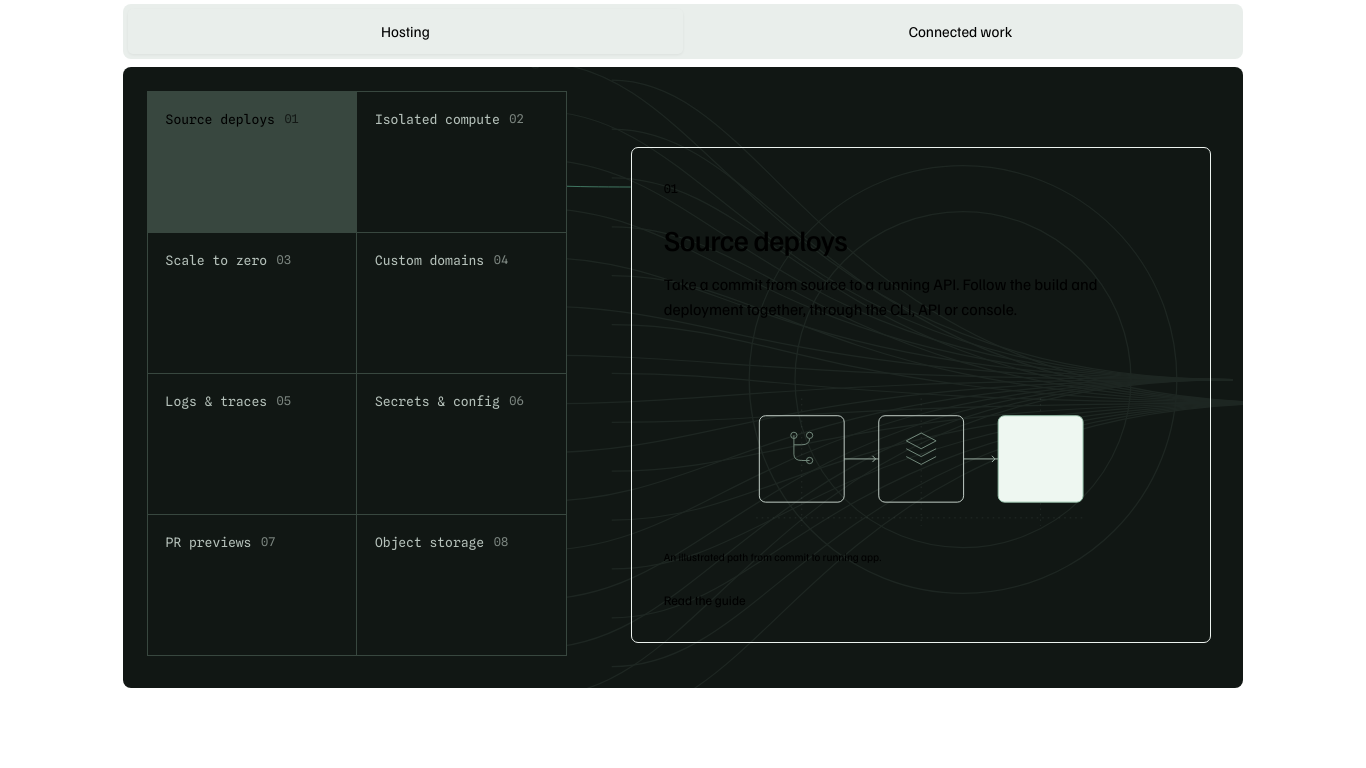
Test: feature explorer › explains Object storage availability, labelling only what is not in beta, and links to its guide when one is published
This screenshot has width=1366, height=768.
(page scrolled)
Click the tab "Object storage 08": x=461, y=585 [357, 515, 566, 655]
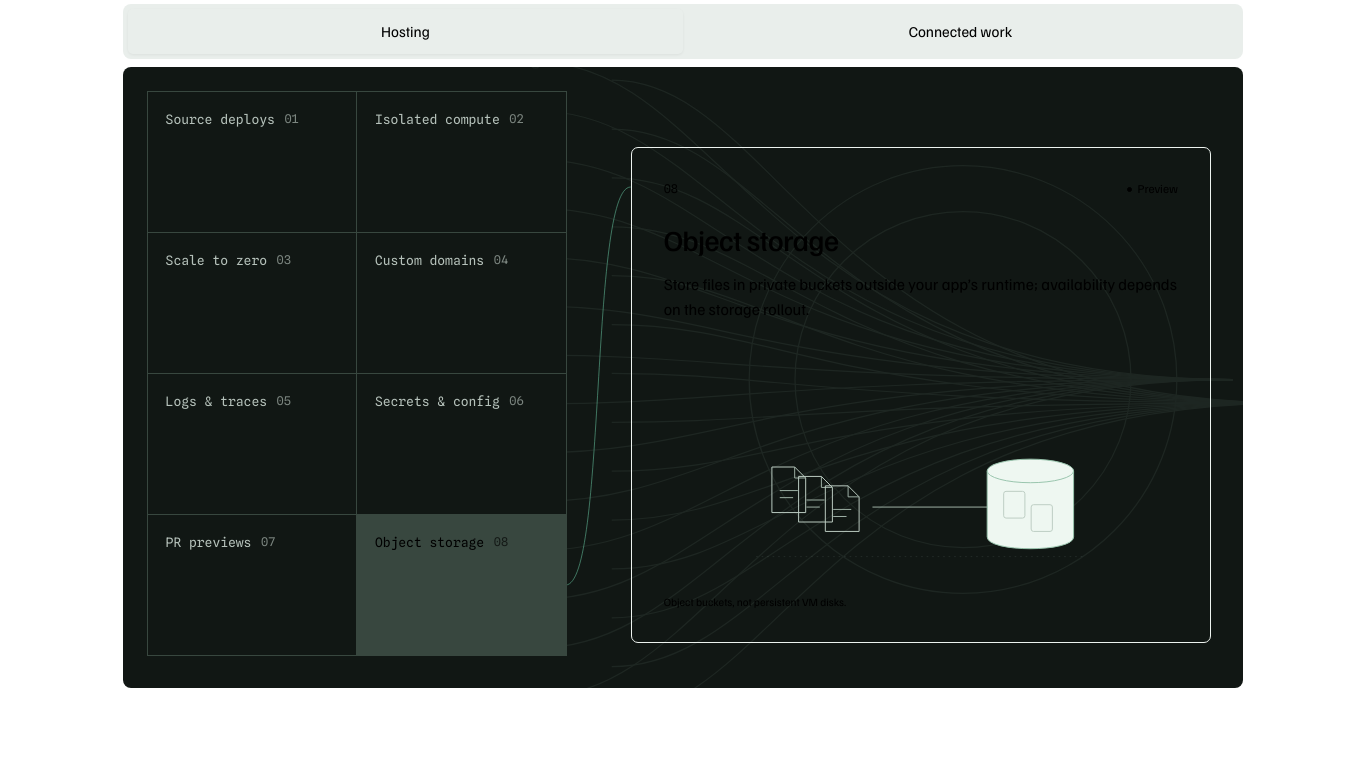
expect the panel "Object storage" shows "availability depends on the storage rollout": met, box [664, 274, 1177, 319]
expect the link "Read the guide" is gone: met
